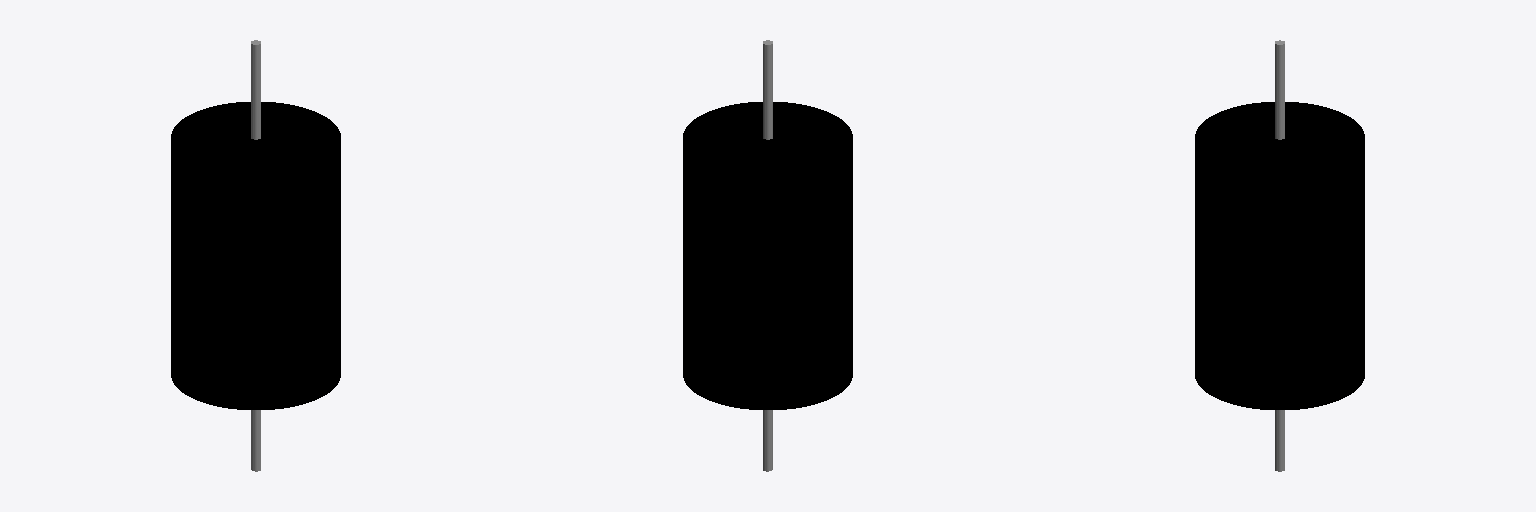
Rendered from meat.obj.
3 renders of one model, left to right at view 1: azimuth 30°, elevation 25°; view 2: azimuth 150°, elevation 25°; view 3: azimuth 270°, elevation 25°, orthographic.
Visible parts, largest first — view 1: 본체1; view 2: 본체1; view 3: 본체1.
Boxes of the visible parts, x1,y1,x2,y2 form: 본체1: [171, 40, 340, 471]; 본체1: [683, 40, 852, 471]; 본체1: [1195, 40, 1364, 471].
Bounding box in the file's own units: 130 × 360 × 130.